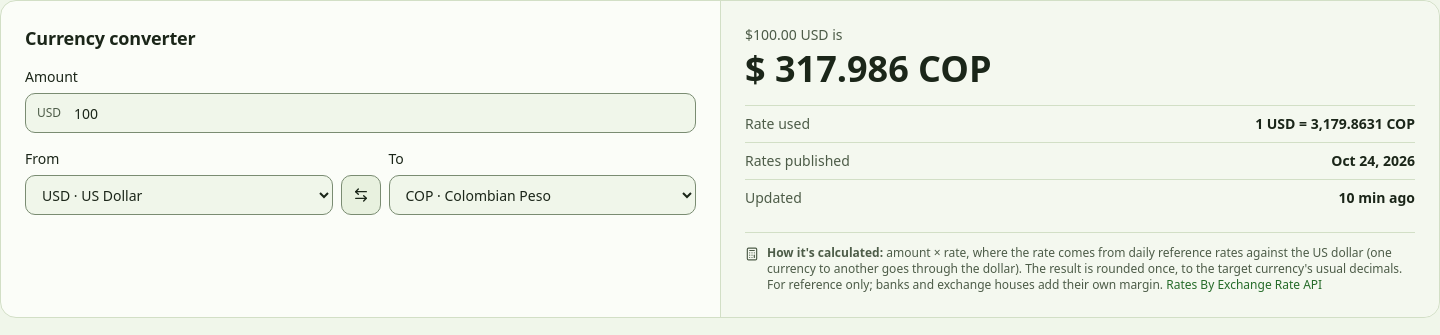
it: ConverterCalculator › validates the amount inline
Replace the text in the number field labelled "Amount" with "-5" at (360, 113), box left=25, top=93, right=696, bottom=133
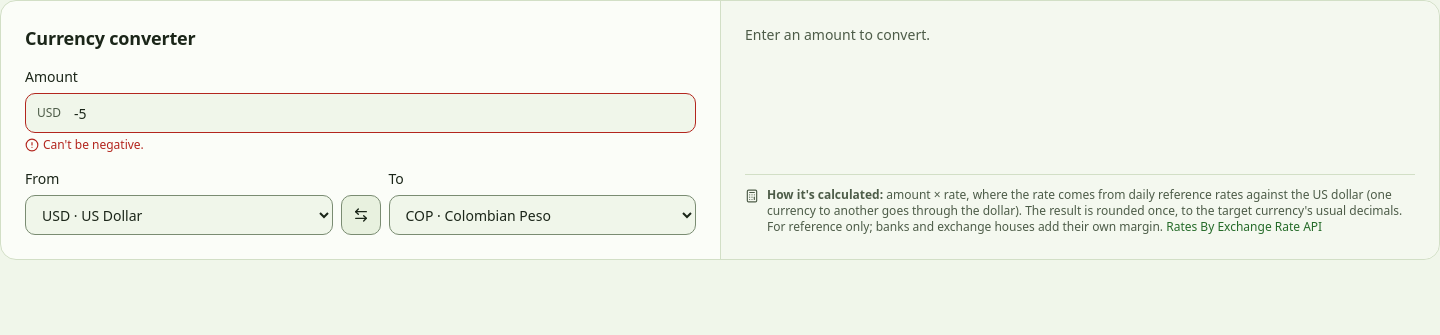
expect the text "Can't be negative." is shown: met, box left=25, top=136, right=144, bottom=153
expect the text "Enter an amount to convert." is shown: met, box left=745, top=25, right=930, bottom=44
